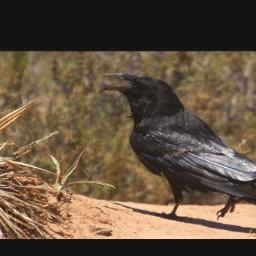Crow: (102, 73, 256, 221)
